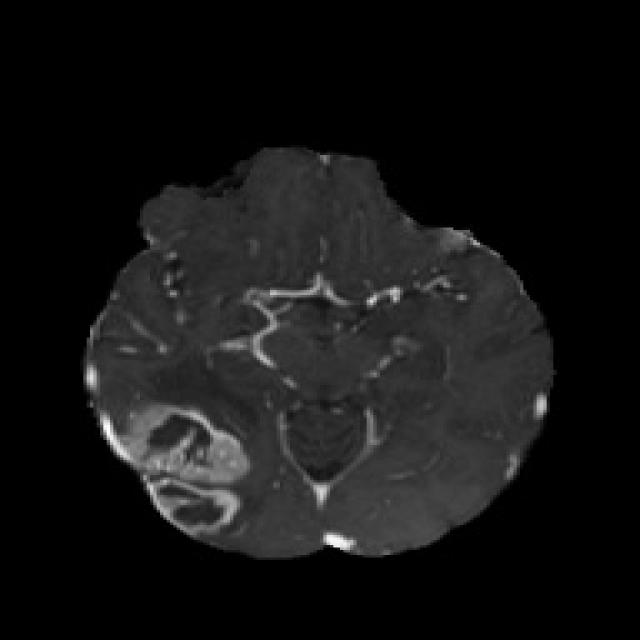positive: (119, 406, 248, 482), (150, 474, 240, 536)
